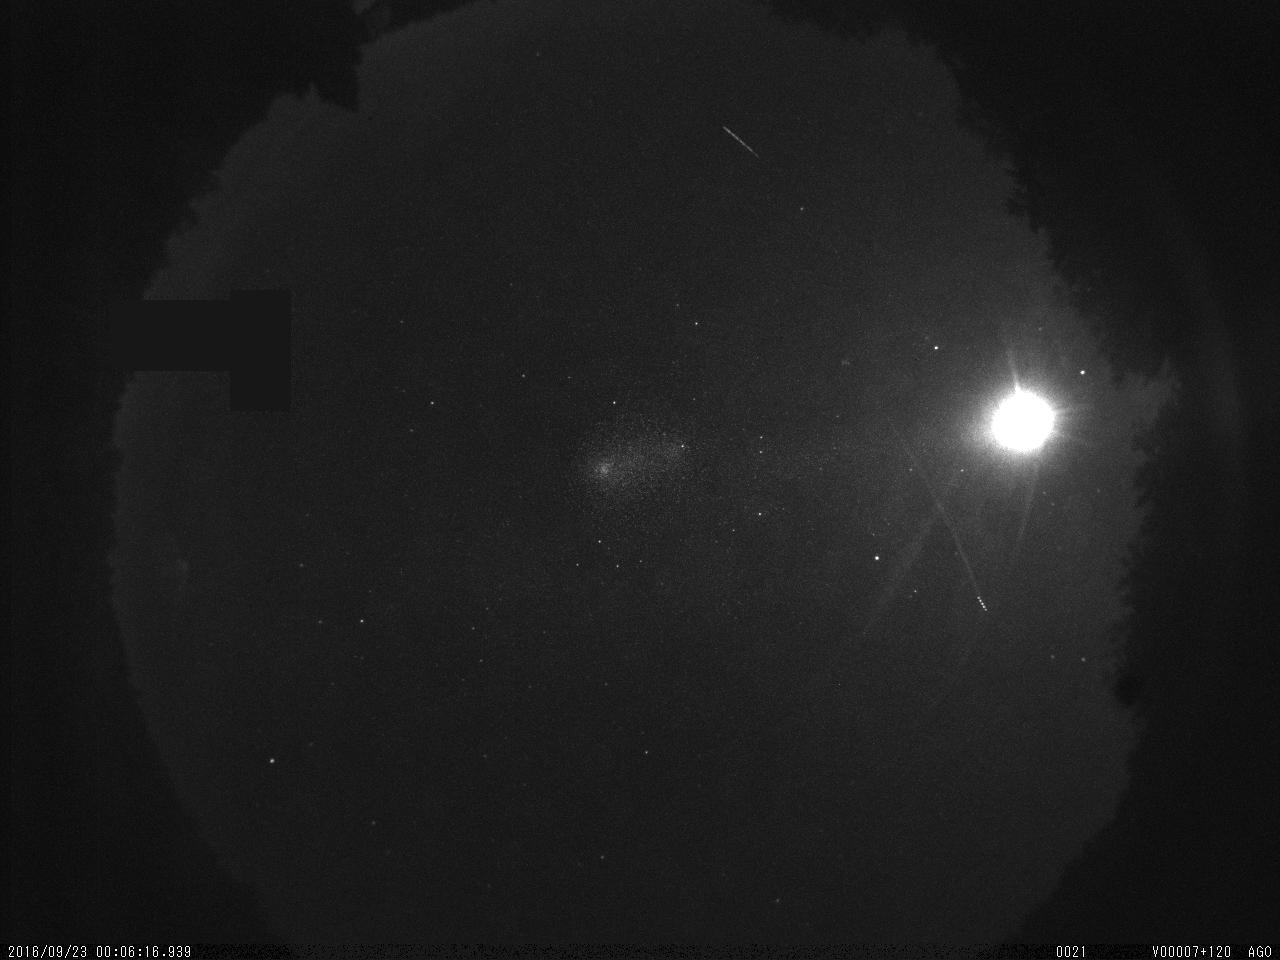Meteor: (721, 122, 762, 161)
